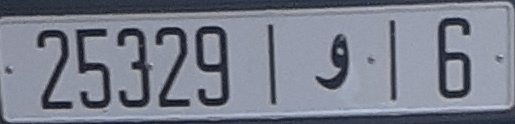2: (35, 28, 76, 113), (153, 25, 193, 108)
3: (114, 25, 151, 110)
5: (75, 25, 114, 110)
6: (434, 13, 474, 102)
9: (192, 24, 233, 107)
waw: (311, 30, 353, 91)
